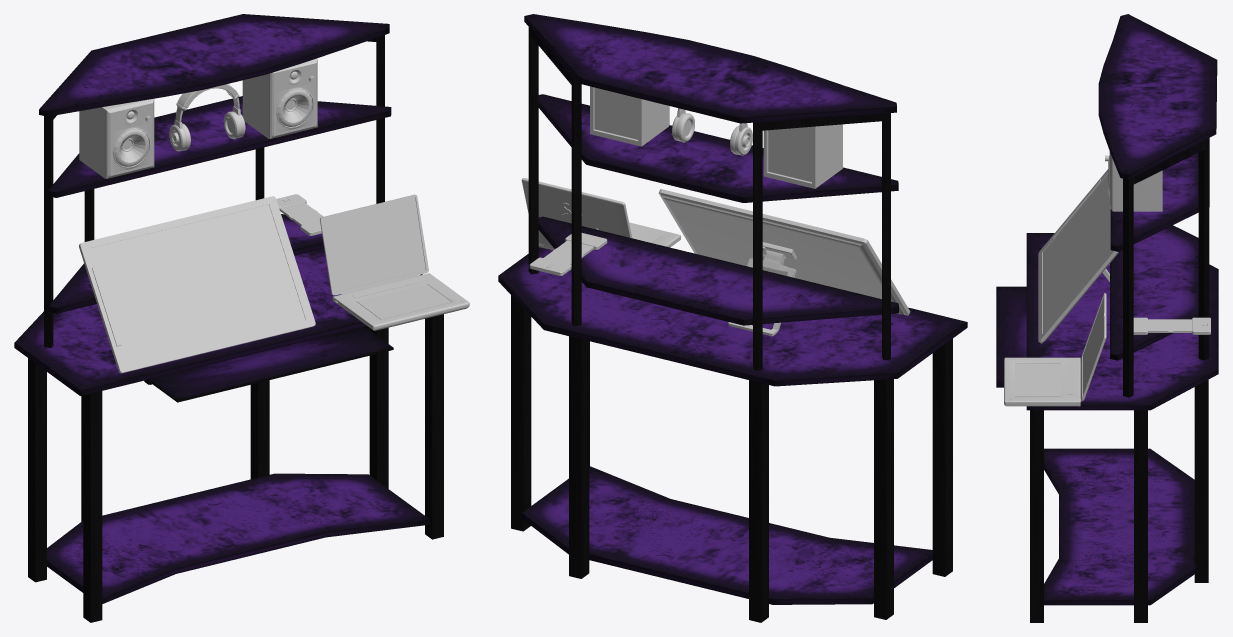
3 views of the same model, side by side, from view 1: azimuth 30°, elevation 25°; view 2: azimuth 150°, elevation 25°; view 3: azimuth 270°, elevation 25° (orthographic). The views are drawn at different scales.
Parts seen in each view (by area): view 1: Desk3, DrawingTablet2, Laptop2, Speaker4, Speaker3, HeadPhones1, PHone1; view 2: Desk3, DrawingTablet2, Speaker4, Laptop2, Speaker3, PHone1, HeadPhones1; view 3: Desk3, DrawingTablet2, Laptop2, Speaker3, PHone1.
Boxes of the visible parts, left/top/right/bottom form: Desk3: left=14, top=14, right=443, bottom=622; DrawingTablet2: left=79, top=196, right=315, bottom=373; Laptop2: left=319, top=194, right=469, bottom=330; Speaker4: left=79, top=98, right=154, bottom=178; Speaker3: left=242, top=58, right=317, bottom=138; HeadPhones1: left=169, top=84, right=245, bottom=151; PHone1: left=276, top=194, right=323, bottom=235; Desk3: left=498, top=14, right=967, bottom=622; DrawingTablet2: left=658, top=189, right=910, bottom=336; Speaker4: left=763, top=124, right=842, bottom=188; Laptop2: left=521, top=178, right=680, bottom=250; Speaker3: left=590, top=86, right=669, bottom=146; PHone1: left=529, top=233, right=607, bottom=275; HeadPhones1: left=672, top=108, right=752, bottom=155; Desk3: left=996, top=14, right=1218, bottom=622; DrawingTablet2: left=1038, top=169, right=1118, bottom=343; Laptop2: left=1004, top=293, right=1106, bottom=406; Speaker3: left=1105, top=151, right=1162, bottom=211; PHone1: left=1133, top=317, right=1210, bottom=334.
Size of the model in its own units: 7.79 by 9.36 by 4.22.
